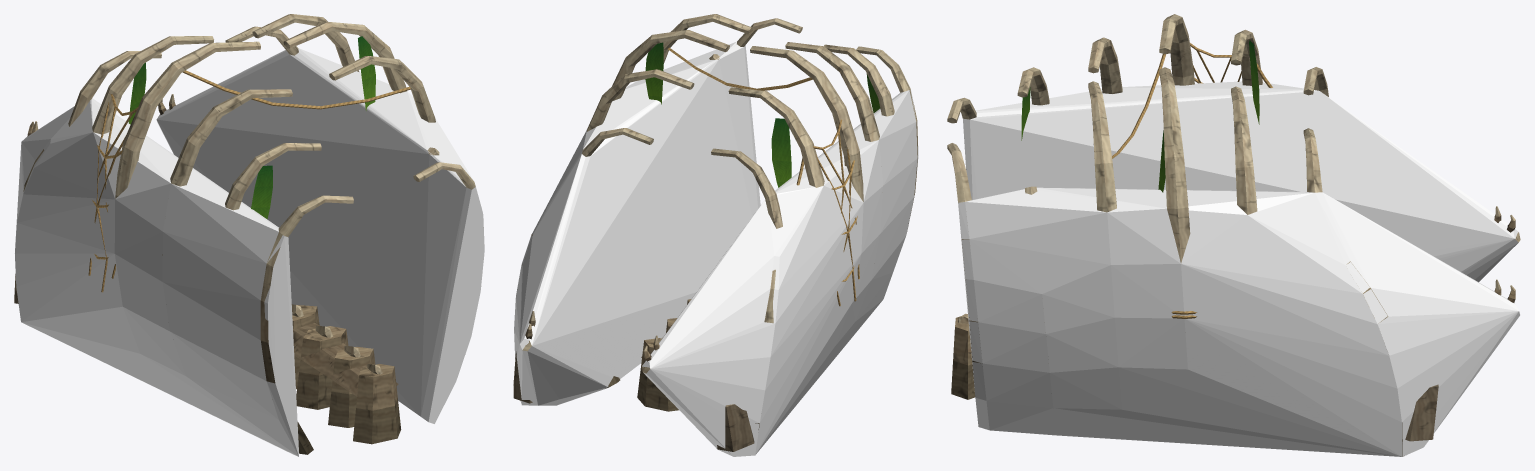
Rendered from leviathan_ribcage_bones.glb.
3 renders of one model, left to right at view 1: azimuth 30°, elevation 25°; view 2: azimuth 150°, elevation 25°; view 3: azimuth 270°, elevation 25°, orthographic. The views are drawn at different scales.
Parts seen in each view (by area): view 1: col_ribcage_left, col_ribcage_right, LeviathanRibcageBones; view 2: col_ribcage_right, col_ribcage_left, LeviathanRibcageBones; view 3: col_ribcage_right, col_ribcage_left, LeviathanRibcageBones.
Part boxes in pixels (<box>): col_ribcage_left: <box>15,98,298,456</box>; col_ribcage_right: <box>156,48,484,423</box>; LeviathanRibcageBones: <box>14,14,475,454</box>; col_ribcage_right: <box>514,41,760,405</box>; col_ribcage_left: <box>642,89,918,456</box>; LeviathanRibcageBones: <box>513,14,917,451</box>; col_ribcage_right: <box>958,187,1519,456</box>; col_ribcage_left: <box>963,81,1518,282</box>; LeviathanRibcageBones: <box>947,14,1520,456</box>.
Bounding box in the file's own units: 8.94 × 9.99 × 14.65.
Materials: 4 (3 with a texture image).
